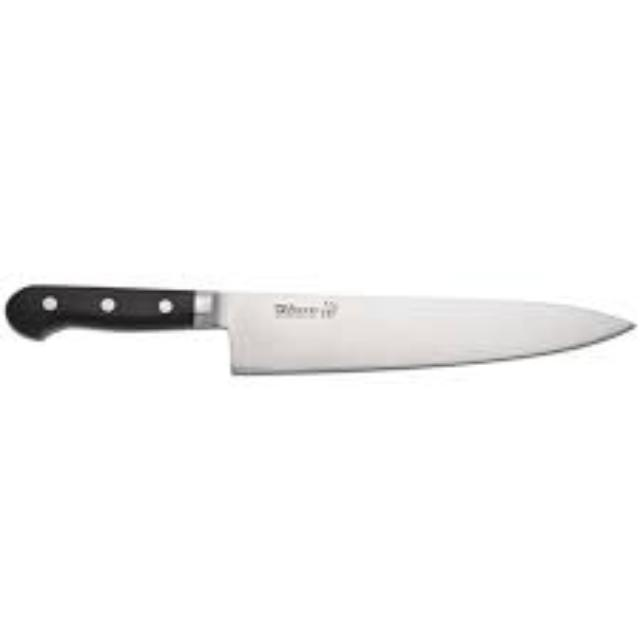knife: (3, 282, 634, 376)
